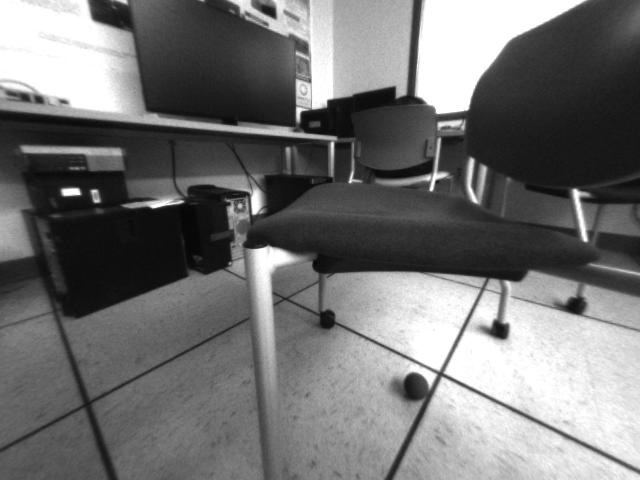dogtoy: (397, 366, 436, 405)
